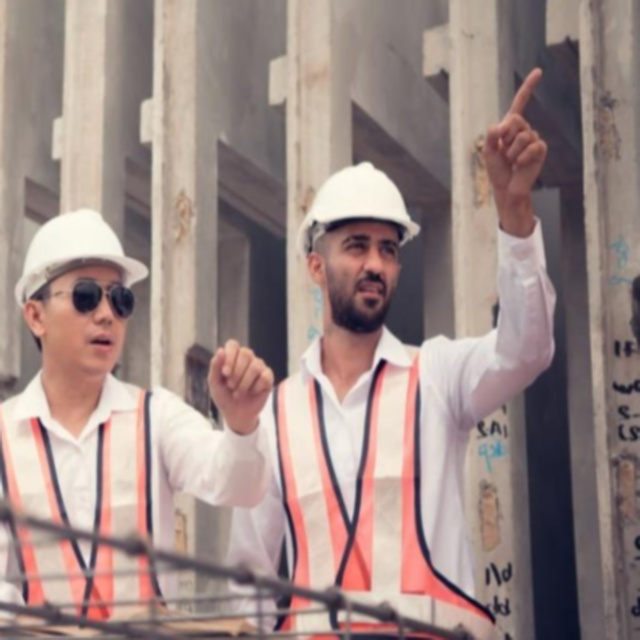Con_Casco: (8, 208, 146, 373), (298, 157, 419, 335)
Con_Chaleco: (272, 338, 489, 640), (0, 378, 166, 640)
